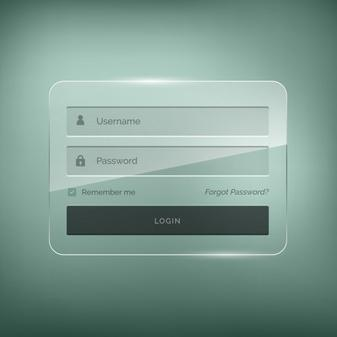button: (66, 205, 270, 236)
checkbox: (67, 186, 78, 198)
checkbox_with_label: (65, 184, 136, 199)
field: (65, 104, 271, 138), (64, 145, 270, 178)
